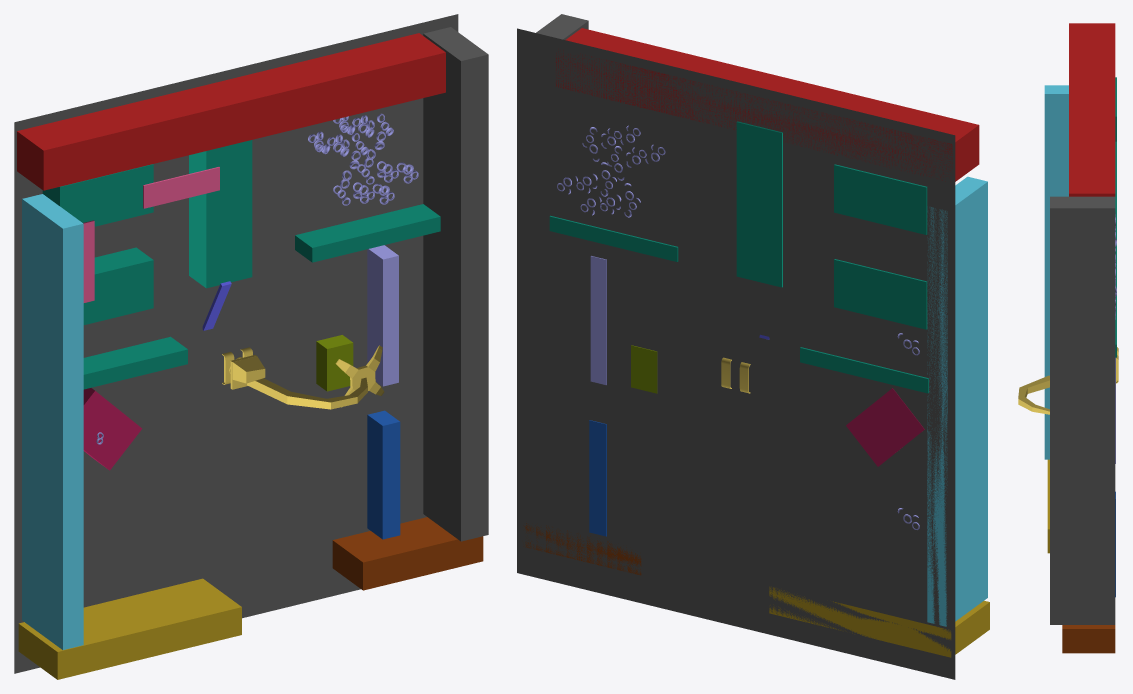
Rendered from Scrapyard.obj.
3 views of the same model, side by side, from view 1: azimuth 30°, elevation 25°; view 2: azimuth 150°, elevation 25°; view 3: azimuth 270°, elevation 25° (orthographic). The views are drawn at different scales.
Visible parts, largest first — view 1: Plane001, Box009, Box010, Box006, Box007, Box013, Box008, Box014, Box016, Box012, Box015, Box011 (+6 smaller); view 2: Plane001, Box006, Box010, Box013, Box009, Box007, Box011, Box012, Box004, Box015, Box014, Box005 (+3 smaller); view 3: Box009, Box010, Box006, Box008, Box003, Box007, Box013.
Boxes of the visible parts, box(x1,y1,x2,y2) form: Plane001: box(14, 14, 458, 673); Box009: box(423, 27, 488, 541); Box010: box(17, 33, 445, 190); Box006: box(22, 194, 83, 649); Box007: box(18, 578, 241, 679); Box013: box(189, 140, 252, 288); Box008: box(332, 517, 483, 590); Box014: box(295, 204, 440, 262); Box016: box(367, 410, 400, 539); Box012: box(42, 164, 153, 226); Box015: box(367, 245, 398, 386); Box011: box(83, 247, 153, 324); Plane001: box(517, 28, 955, 679); Box006: box(927, 176, 987, 626); Box010: box(555, 28, 979, 181); Box013: box(736, 121, 782, 287); Box009: box(524, 14, 588, 520); Box007: box(769, 586, 989, 657); Box011: box(834, 259, 927, 329); Box012: box(834, 164, 927, 234); Box004: box(846, 388, 924, 466); Box015: box(590, 256, 606, 385); Box014: box(549, 215, 678, 261); Box005: box(800, 347, 928, 393); Box009: box(1050, 196, 1115, 624); Box010: box(1069, 23, 1115, 196); Box006: box(1044, 85, 1068, 459); Box008: box(1062, 625, 1115, 653); Box003: box(1018, 347, 1118, 414); Box007: box(1047, 459, 1049, 553); Box013: box(1115, 122, 1116, 277).
Size of the model in its own units: 64559 by 76644 by 14617.
